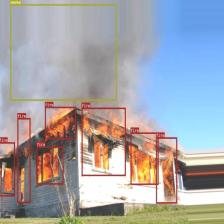fire: (82, 108, 126, 176), (130, 132, 159, 184), (156, 137, 177, 203), (17, 118, 31, 203), (36, 146, 64, 184), (44, 106, 76, 139), (0, 142, 15, 196)
smoke: (10, 4, 117, 100)
